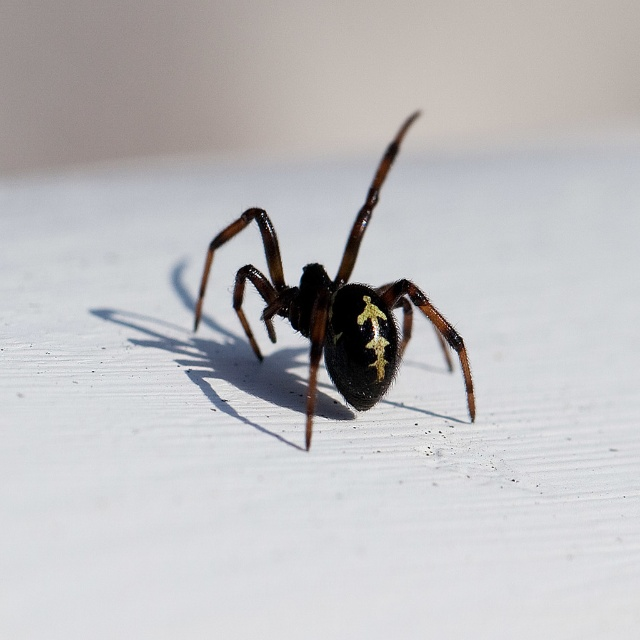Spider: (193, 108, 476, 452)
